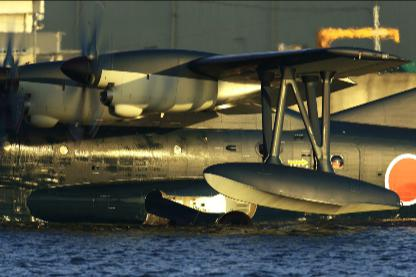Tu95: (0, 0, 415, 226)
